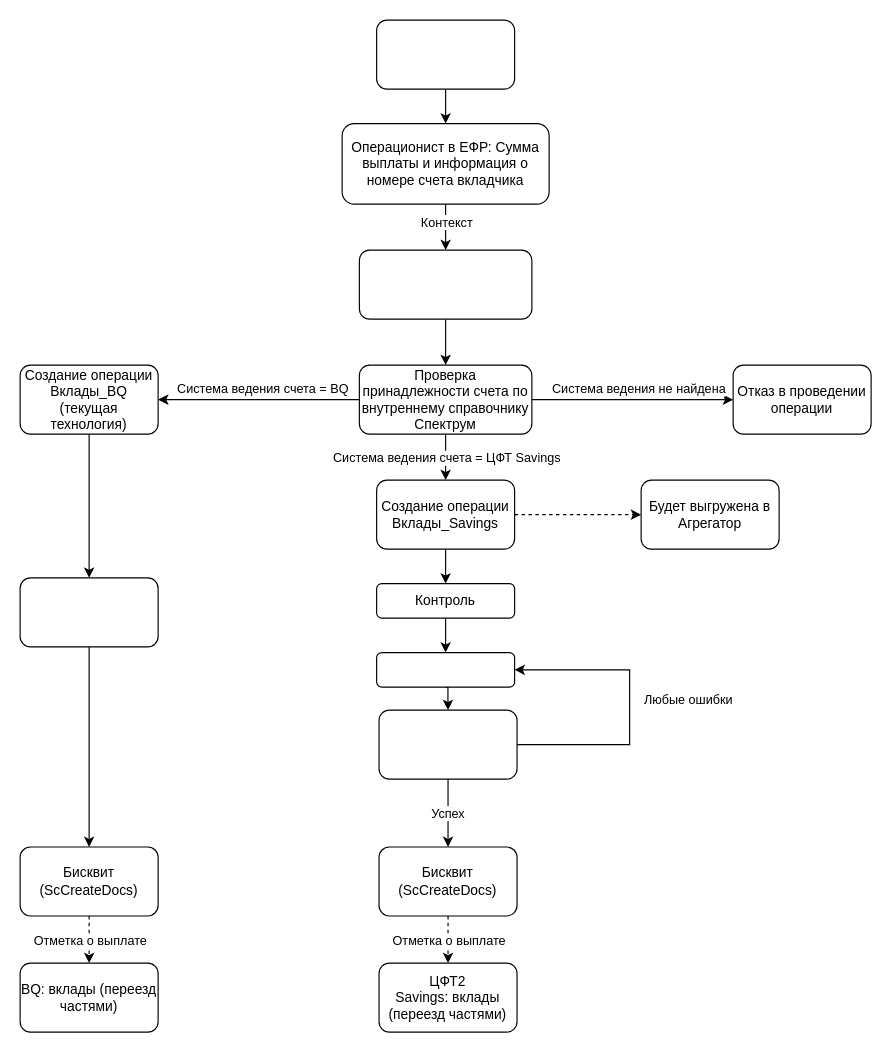
This 891x1052 diagram has some shape labels left out. The centre of each missing label's shape, as x and y in pixels:
Клиент обращается к операционисту: pixel 445 54
Контроль, подтверждение операции: pixel 88 612
Подтверждение операции: pixel 445 669
Спектрум (заполнение реквизитов операции, подтоговка операции): pixel 445 284
ЦФТ2 Savings (запрос на создание документа): pixel 447 744
